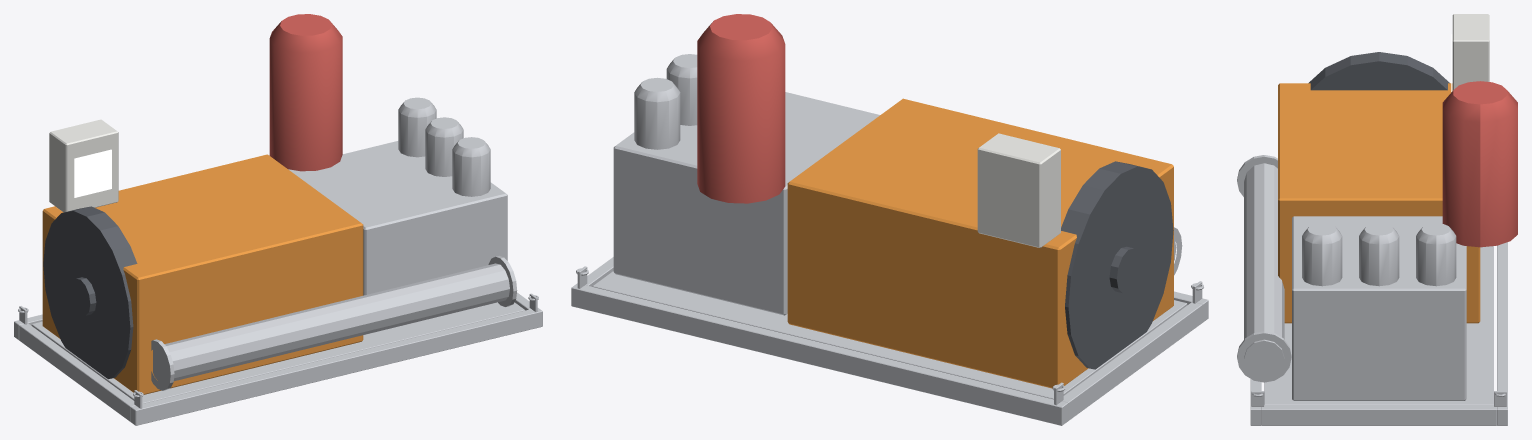
The picture shows the model from 3 angles, left to right: view 1: azimuth 30°, elevation 25°; view 2: azimuth 150°, elevation 25°; view 3: azimuth 270°, elevation 25°; orthographic projection. The views are drawn at different scales.
Parts seen in each view (by area): view 1: mud-pump, flywheel-mud; view 2: mud-pump, flywheel-mud; view 3: mud-pump, flywheel-mud.
Part boxes in pixels (x1,y1,x2,y2): mud-pump: [14, 14, 542, 425]; flywheel-mud: [43, 206, 137, 379]; mud-pump: [571, 14, 1208, 425]; flywheel-mud: [1061, 161, 1173, 369]; mud-pump: [1237, 14, 1517, 425]; flywheel-mud: [1308, 52, 1449, 90].
Size of the model in its own units: 5.4 by 3.21 by 3.06.
